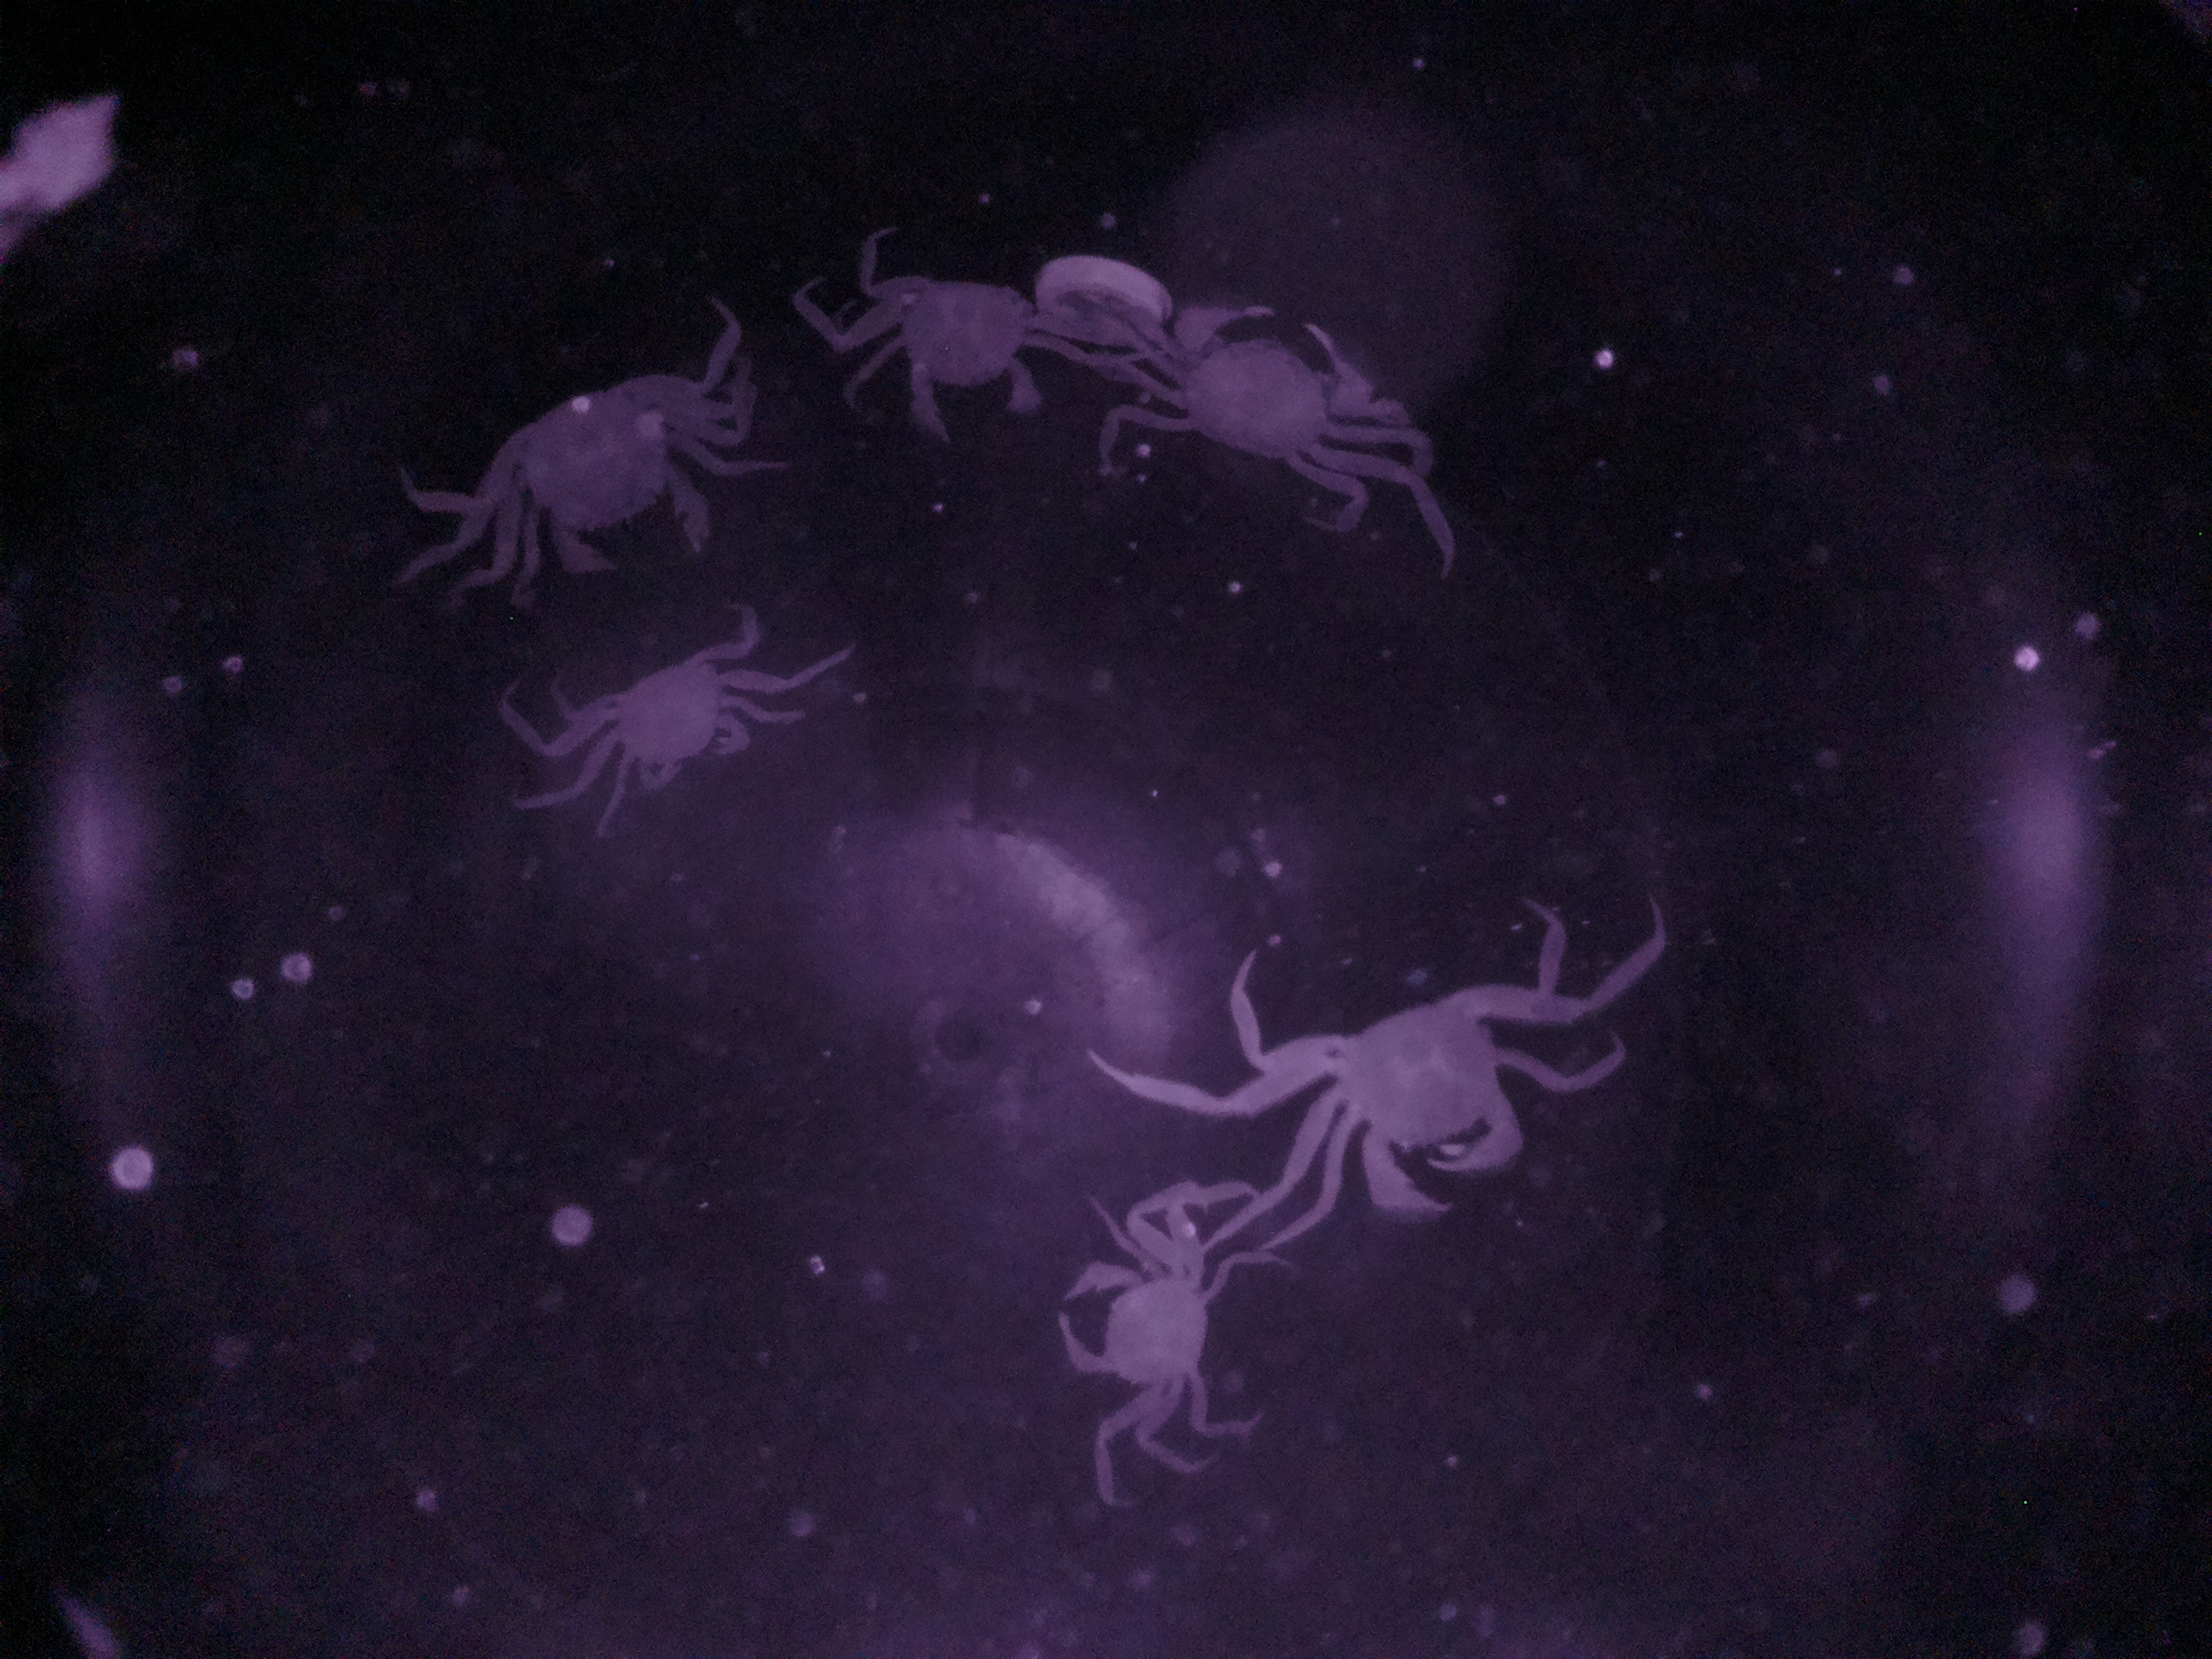Crab: (1285, 965, 1555, 1229), (484, 357, 728, 591), (1139, 291, 1404, 495), (1036, 1218, 1224, 1429), (867, 247, 1033, 451), (577, 620, 761, 791)
